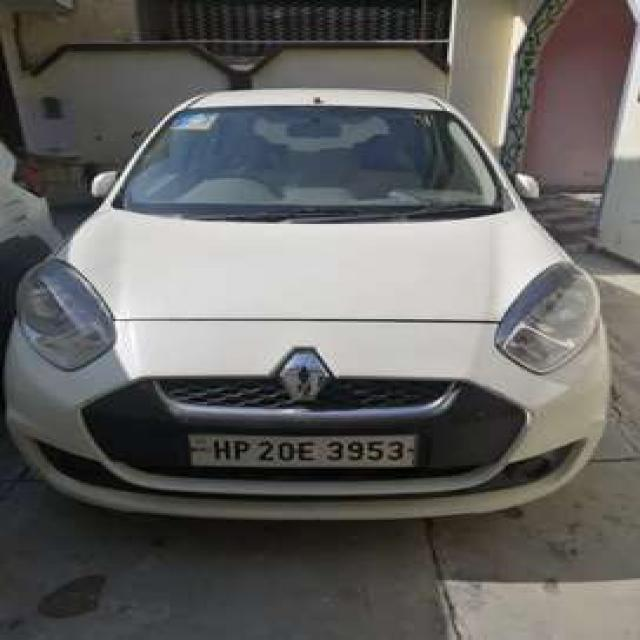Plate: (185, 431, 413, 467)
